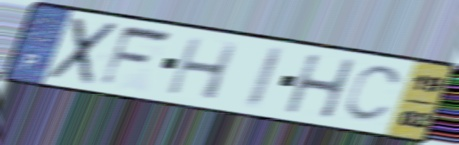C: (340, 64, 406, 126)
F: (95, 23, 177, 90)
H: (282, 52, 360, 121), (163, 34, 242, 102)
I: (241, 44, 288, 112)
X: (43, 15, 123, 88)
